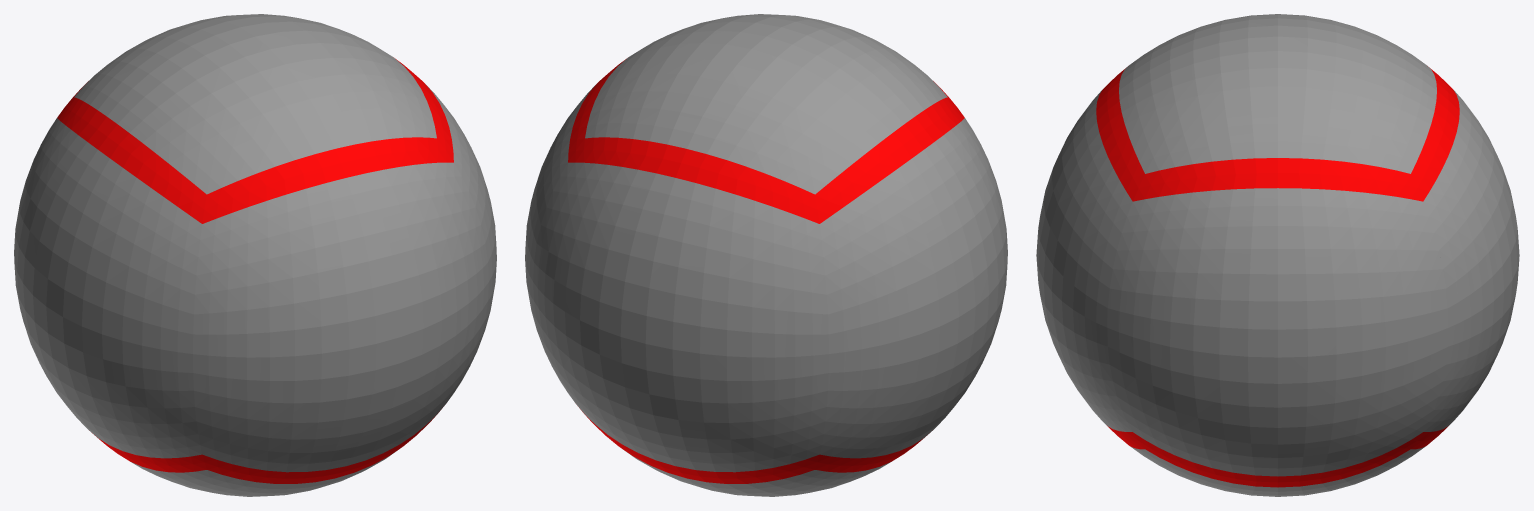
The model's file is lol.obj.
The picture shows the model from 3 angles, left to right: view 1: azimuth 30°, elevation 25°; view 2: azimuth 150°, elevation 25°; view 3: azimuth 270°, elevation 25°; orthographic projection.
Parts seen in each view (by area): view 1: Cube_Cube.003; view 2: Cube_Cube.003; view 3: Cube_Cube.003.
Part boxes in pixels (bbox=[...]): Cube_Cube.003: bbox=[14, 14, 496, 496]; Cube_Cube.003: bbox=[525, 14, 1007, 496]; Cube_Cube.003: bbox=[1036, 14, 1519, 496].
Size of the model in its own units: 0.5774 by 0.5774 by 0.5774.
